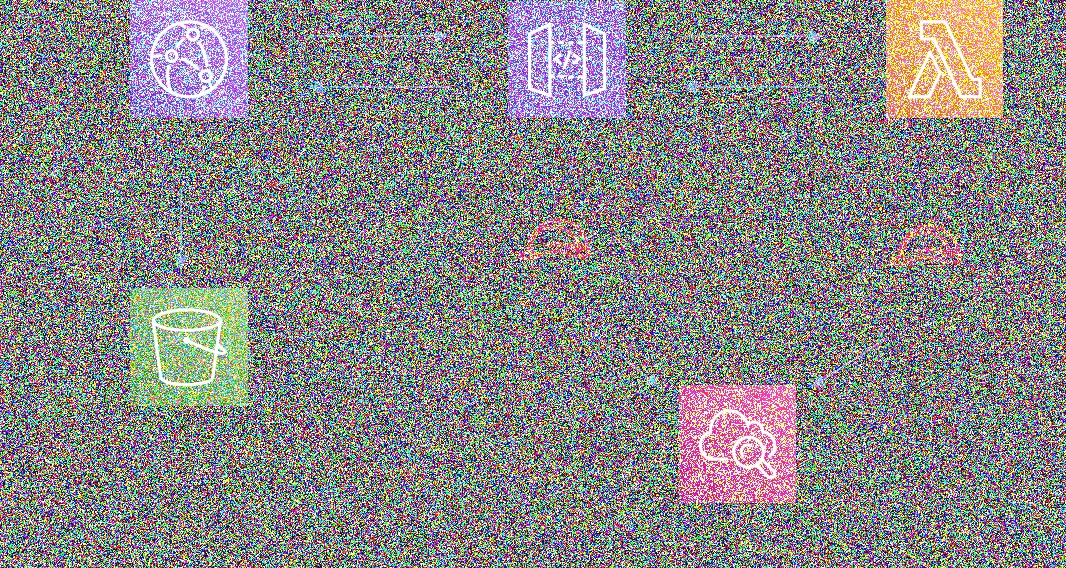API-Gateway: (506, 0, 629, 119)
Cloud Watch: (679, 384, 801, 505)
Cloudfront: (131, 0, 250, 121)
IAM Role: (512, 203, 598, 270), (882, 214, 967, 278)
Lambda: (882, 0, 1007, 119)
S3: (129, 288, 250, 406)
